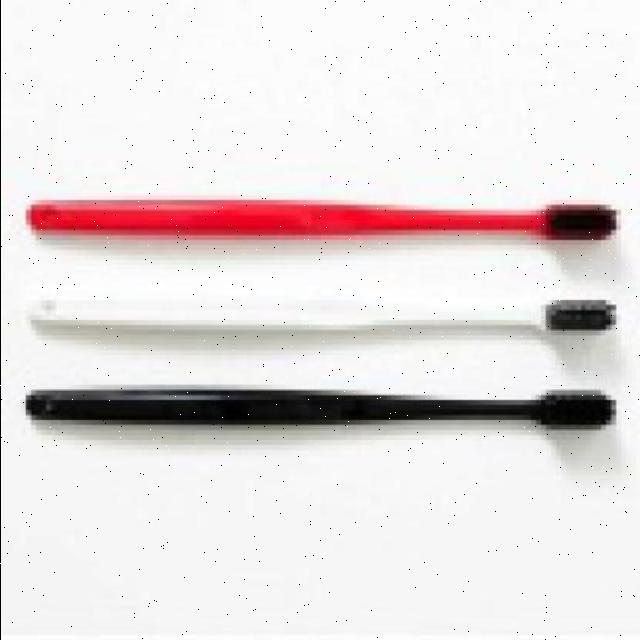toothbrush: (35, 190, 622, 446)
